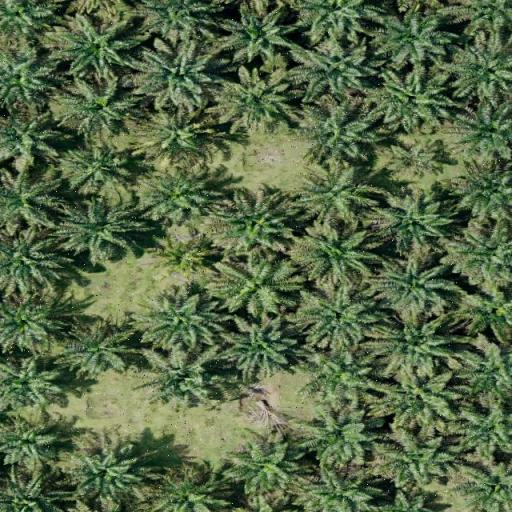Ganoderma: (156, 239, 208, 274)
